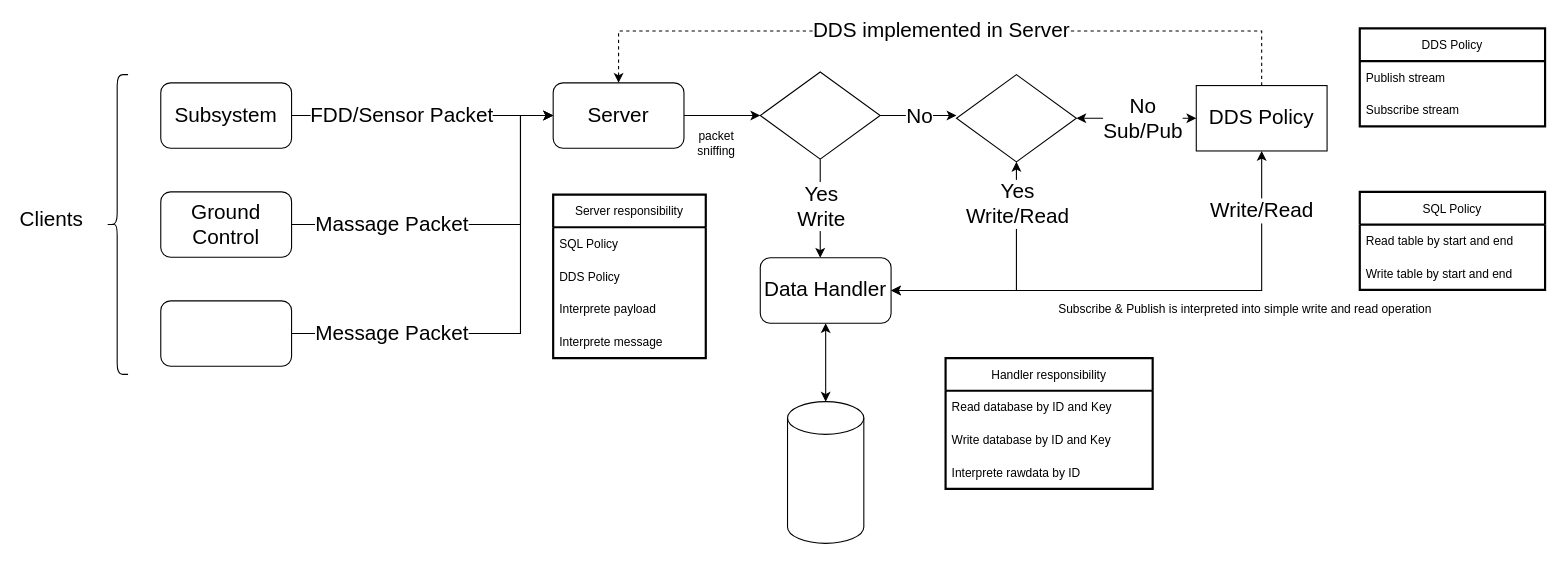
This 1564x562 diagram has some shape labels left out. The centre of each missing label's shape, as x and y in pixels:
C2: the point at 226,333
Data Base: the point at 825,472
is Data?: the point at 819,115
SQL?: the point at 1015,118
